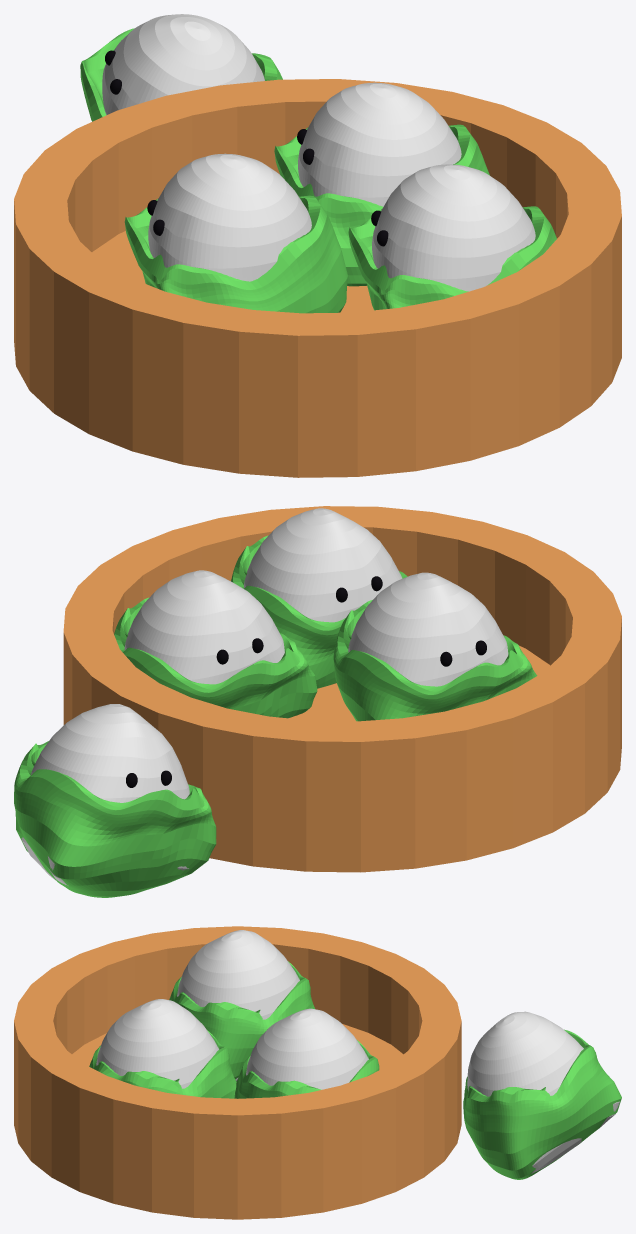
Rendered from zongzi.glb.
3 views of the same model, one above another, from view 1: azimuth 30°, elevation 25°; view 2: azimuth 150°, elevation 25°; view 3: azimuth 270°, elevation 25° (orthographic). The views are drawn at different scales.
Visible parts, largest first — view 1: Cylinder, Sphere.012, Sphere, Sphere.002, Sphere.015, Sphere.008, Sphere.001, Sphere.007, Sphere.011; view 2: Cylinder, Sphere.011, Sphere.002, Sphere.012, Sphere, Sphere.008, Sphere.015, Sphere.007, Sphere.001; view 3: Cylinder, Sphere.011, Sphere.008, Sphere.012, Sphere, Sphere.002, Sphere.015, Sphere.001, Sphere.007.
Part boxes in pixels (x1,y1,x2,y2): Cylinder: (14, 79, 621, 477); Sphere.012: (148, 153, 311, 281); Sphere: (372, 164, 535, 291); Sphere.002: (298, 82, 461, 206); Sphere.015: (124, 195, 347, 313); Sphere.008: (102, 14, 264, 115); Sphere.001: (348, 206, 556, 310); Sphere.007: (274, 124, 489, 286); Sphere.011: (80, 28, 282, 121); Cylinder: (63, 506, 621, 872); Sphere.011: (14, 741, 216, 897); Sphere.002: (124, 570, 288, 718); Sphere.012: (348, 572, 508, 686); Sphere: (244, 508, 402, 622); Sphere.008: (21, 704, 189, 885); Sphere.015: (333, 600, 537, 721); Sphere.007: (114, 597, 317, 718); Sphere.001: (231, 535, 407, 688); Cylinder: (14, 926, 461, 1219); Sphere.011: (463, 1029, 621, 1179); Sphere.008: (467, 1011, 619, 1173); Sphere.012: (177, 930, 299, 1081); Sphere: (96, 999, 218, 1088); Sphere.002: (246, 1008, 368, 1089); Sphere.015: (169, 961, 314, 1079); Sphere.001: (89, 1030, 236, 1098); Sphere.007: (234, 1040, 379, 1098).
Bounding box in the file's own units: 2 × 0.8604 × 2.72.
